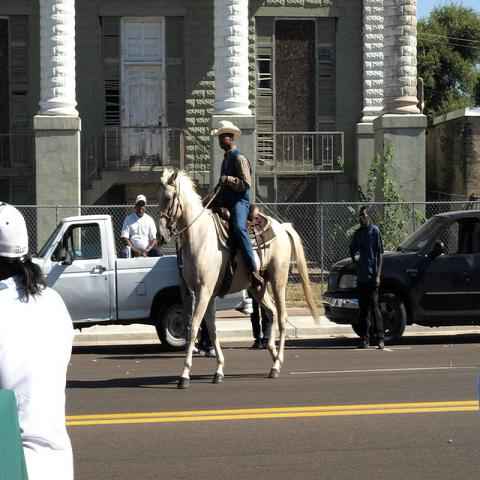car: (320, 207, 480, 345)
truck: (25, 212, 192, 352), (320, 208, 480, 350)
